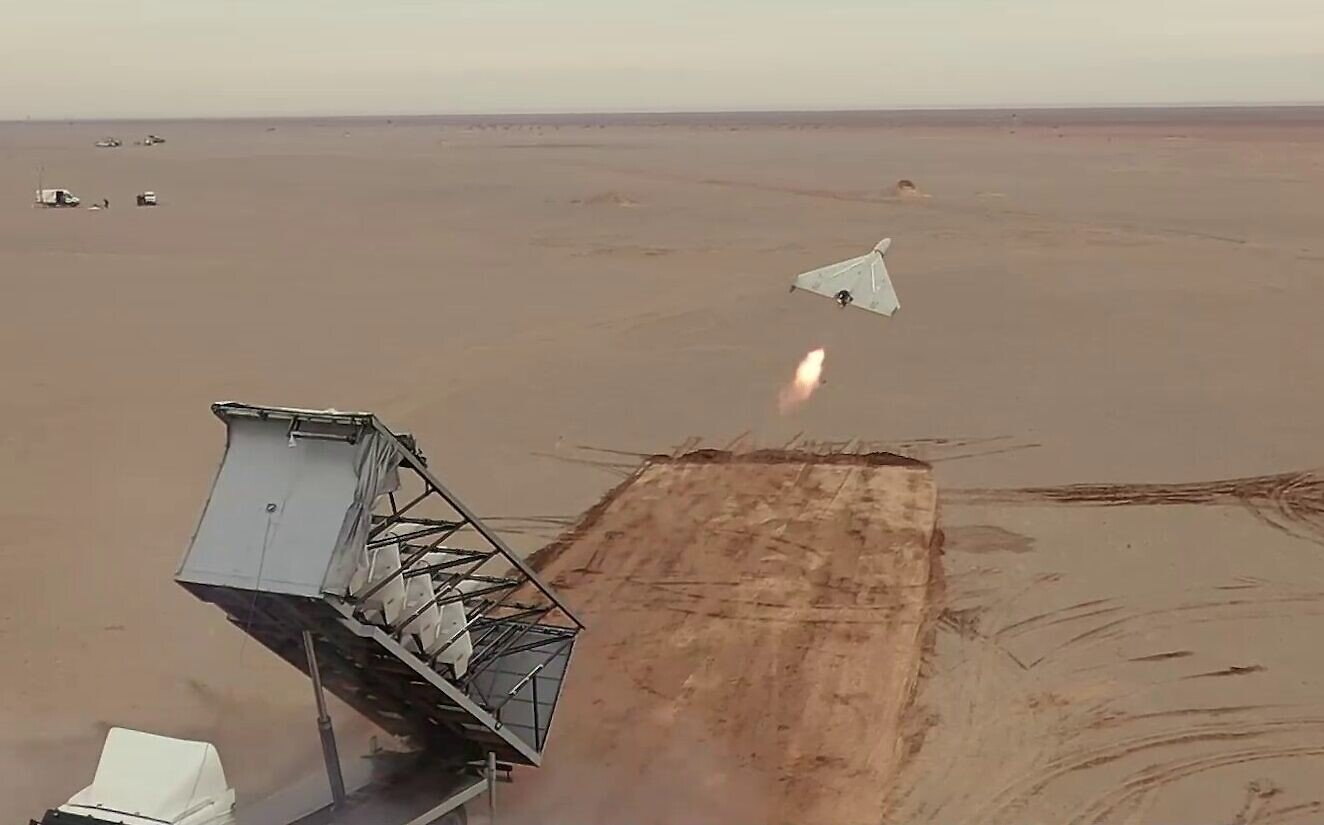shahed: (787, 235, 902, 319)
